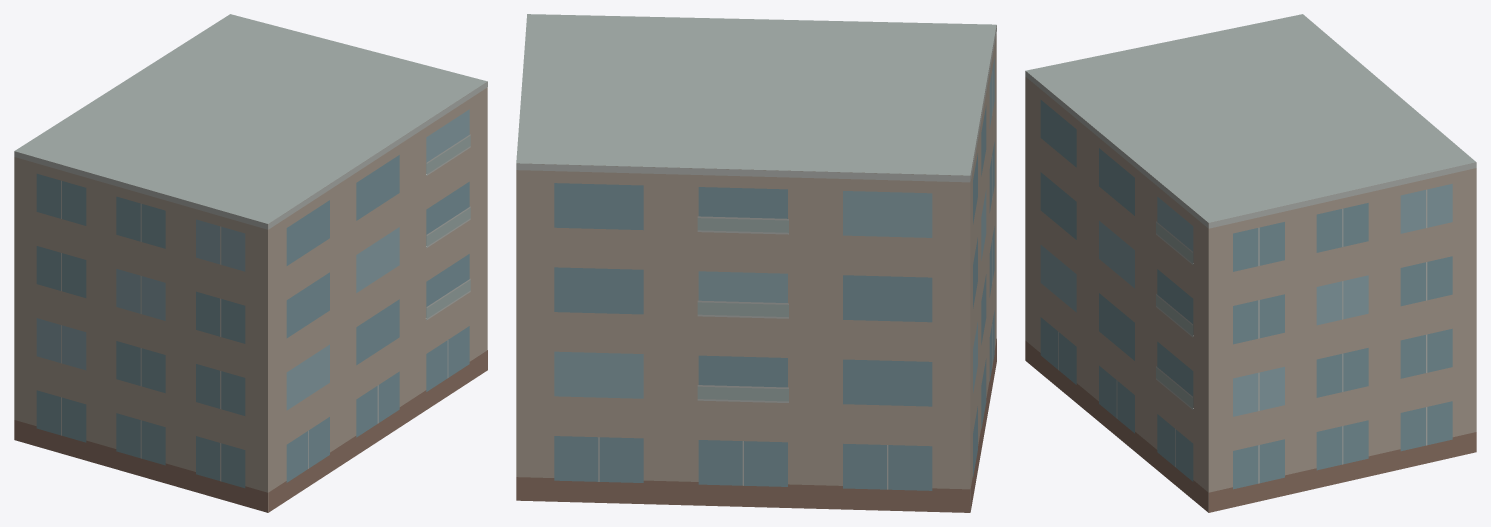
Rendered from survey-upis-32597780.glb.
3 views of the same model, side by side, from view 1: azimuth 30°, elevation 25°; view 2: azimuth 150°, elevation 25°; view 3: azimuth 270°, elevation 25° (orthographic). The views are drawn at different scales.
Parts seen in each view (by area): view 1: survey-upis-32597780.tmp; view 2: survey-upis-32597780.tmp; view 3: survey-upis-32597780.tmp.
Part boxes in pixels (x1,y1,x2,y2): survey-upis-32597780.tmp: (14,14,487,512); survey-upis-32597780.tmp: (516,14,996,512); survey-upis-32597780.tmp: (1025,14,1476,512).
Bounding box in the file's own units: 18.87 × 12.2 × 17.21.
